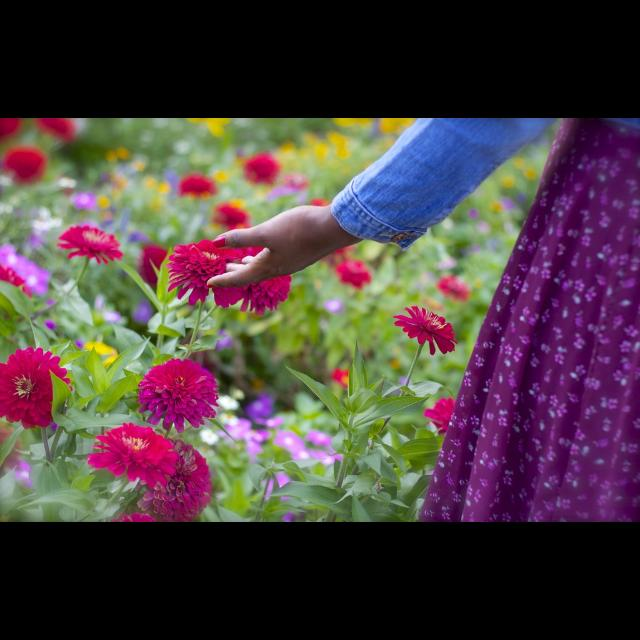Flower: (0, 119, 474, 522), (395, 301, 459, 354)
